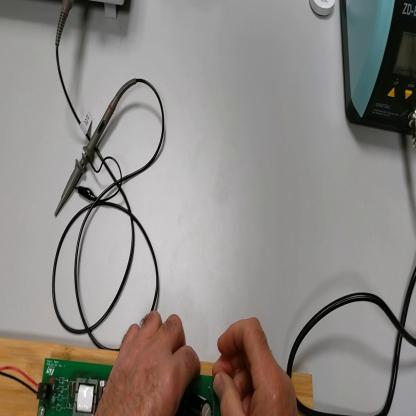hand: (98, 313, 200, 415), (213, 321, 298, 415)
high voltage board: (1, 362, 221, 415)
oscilloscope: (98, 1, 126, 19)
oscilloscope probe tip: (55, 96, 120, 221)
welder station: (341, 2, 416, 130)
working area: (1, 341, 313, 416)
